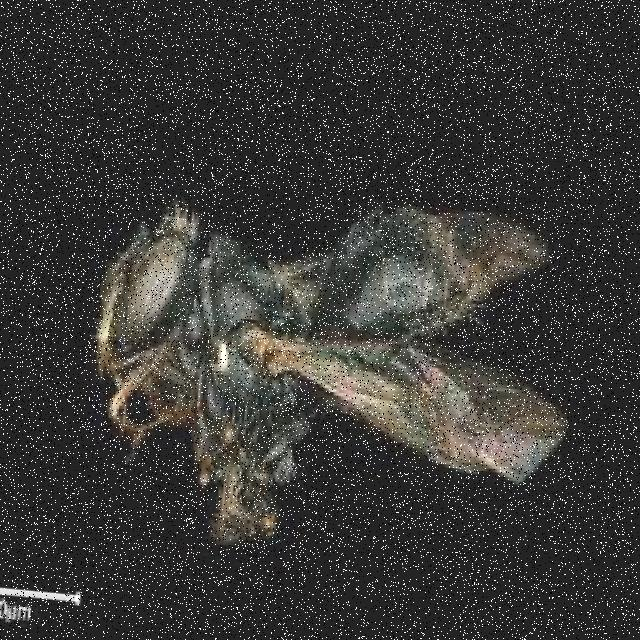Braunsapis: (65, 141, 596, 574)
